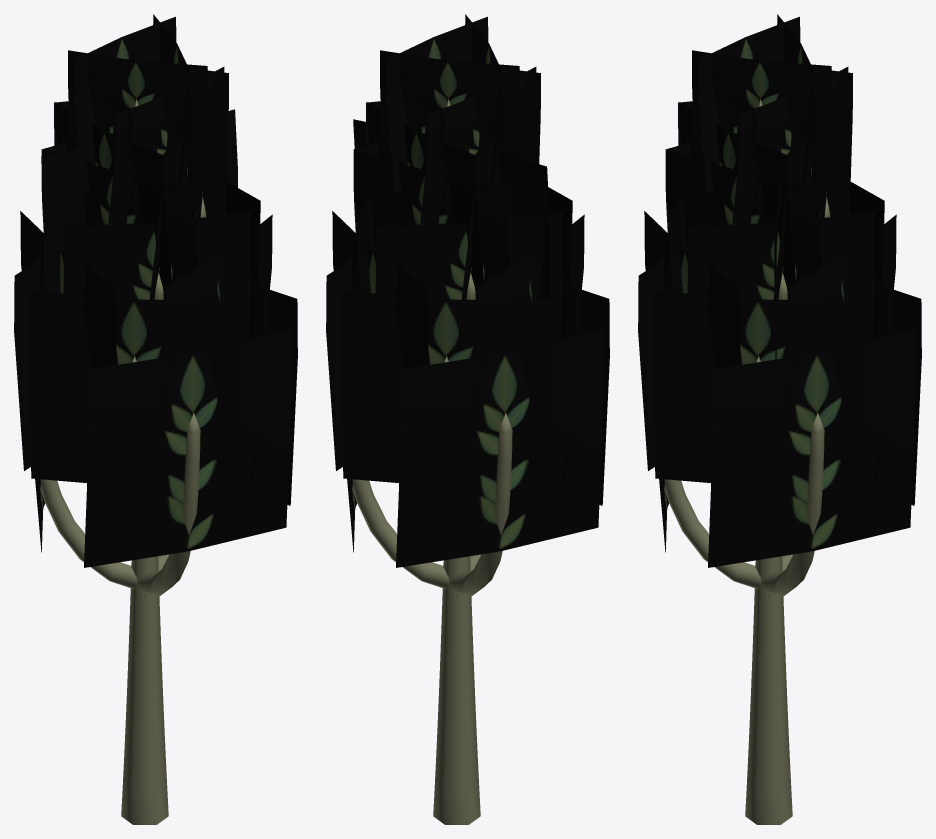
The model's file is desert1.glb.
The picture shows the model from 3 angles, left to right: view 1: azimuth 30°, elevation 25°; view 2: azimuth 150°, elevation 25°; view 3: azimuth 270°, elevation 25°; orthographic projection.
Visible parts, largest first — view 1: leaf, bark; view 2: leaf, bark; view 3: leaf, bark.
Part boxes in pixels (bbox=[...]): leaf: bbox=[14, 14, 297, 567]; bark: bbox=[40, 99, 206, 824]; leaf: bbox=[326, 14, 609, 567]; bark: bbox=[352, 99, 512, 824]; leaf: bbox=[638, 14, 921, 567]; bark: bbox=[664, 99, 830, 824].
Size of the model in its own units: 1.49 by 4.29 by 1.43.
2 materials, 1 textured.
